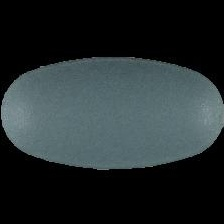53808-0990: (0, 0, 224, 224)
